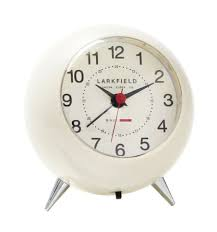alarm_clock: (19, 22, 196, 208), (19, 32, 196, 208), (31, 32, 196, 208)
